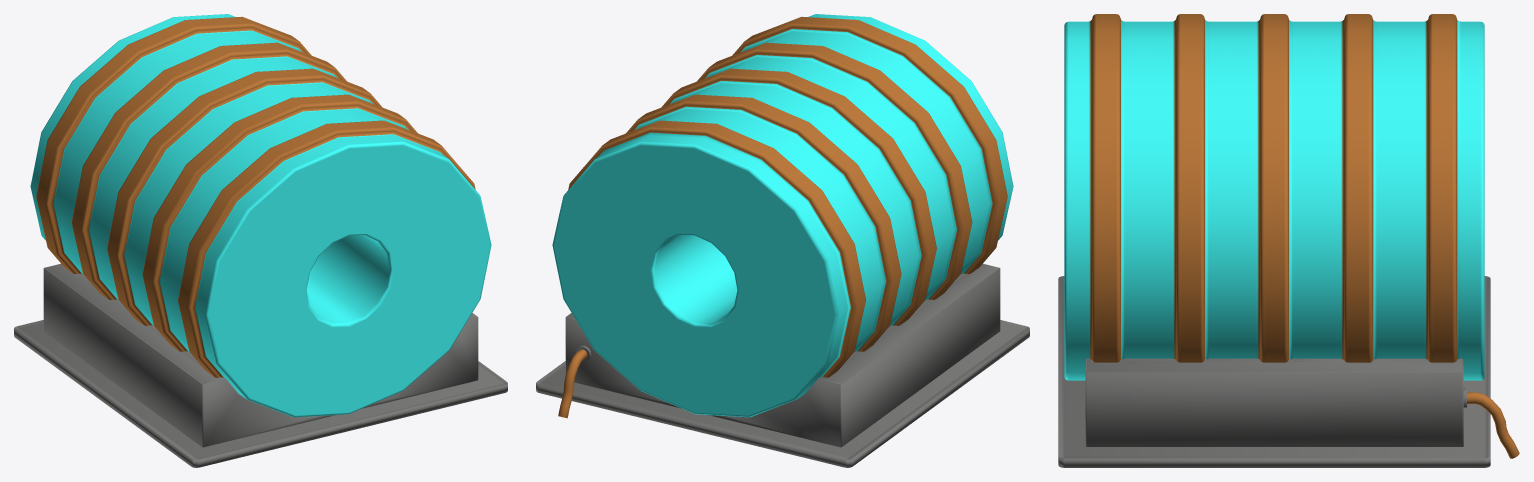
Rendered from Generic_Generator_11.fbx.
3 views of the same model, side by side, from view 1: azimuth 30°, elevation 25°; view 2: azimuth 150°, elevation 25°; view 3: azimuth 270°, elevation 25° (orthographic). The views are drawn at different scales.
Visible parts, largest first — view 1: Cylinder.001; view 2: Cylinder.001; view 3: Cylinder.001.
Part boxes in pixels (x1,y1,x2,y2): Cylinder.001: (14, 14, 507, 467); Cylinder.001: (536, 14, 1029, 467); Cylinder.001: (1058, 14, 1519, 467).
Bounding box in the file's own units: 1028 × 930 × 1097.
